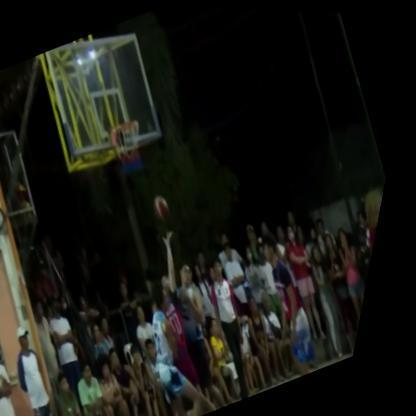basketball: (151, 188, 188, 231)
rim: (97, 105, 173, 185)
